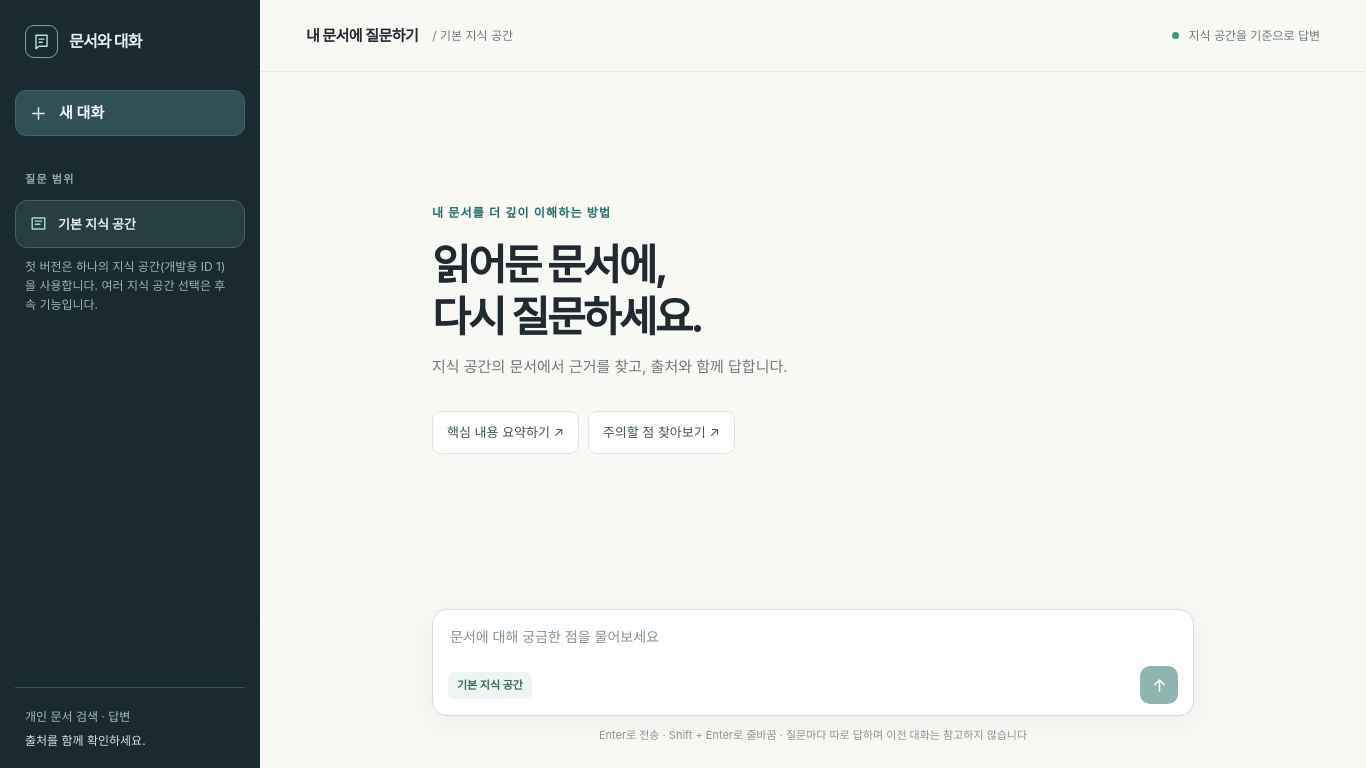
Test case: 빈 sources는 정상 답변으로 보여주고 출처가 없다고 안내한다
The image size is (1366, 768).
(page scrolled)
Type "없는 내용" into the text box named "질문 입력".
click(813, 645); type("없는 내용")  # box [448,624,1178,666]
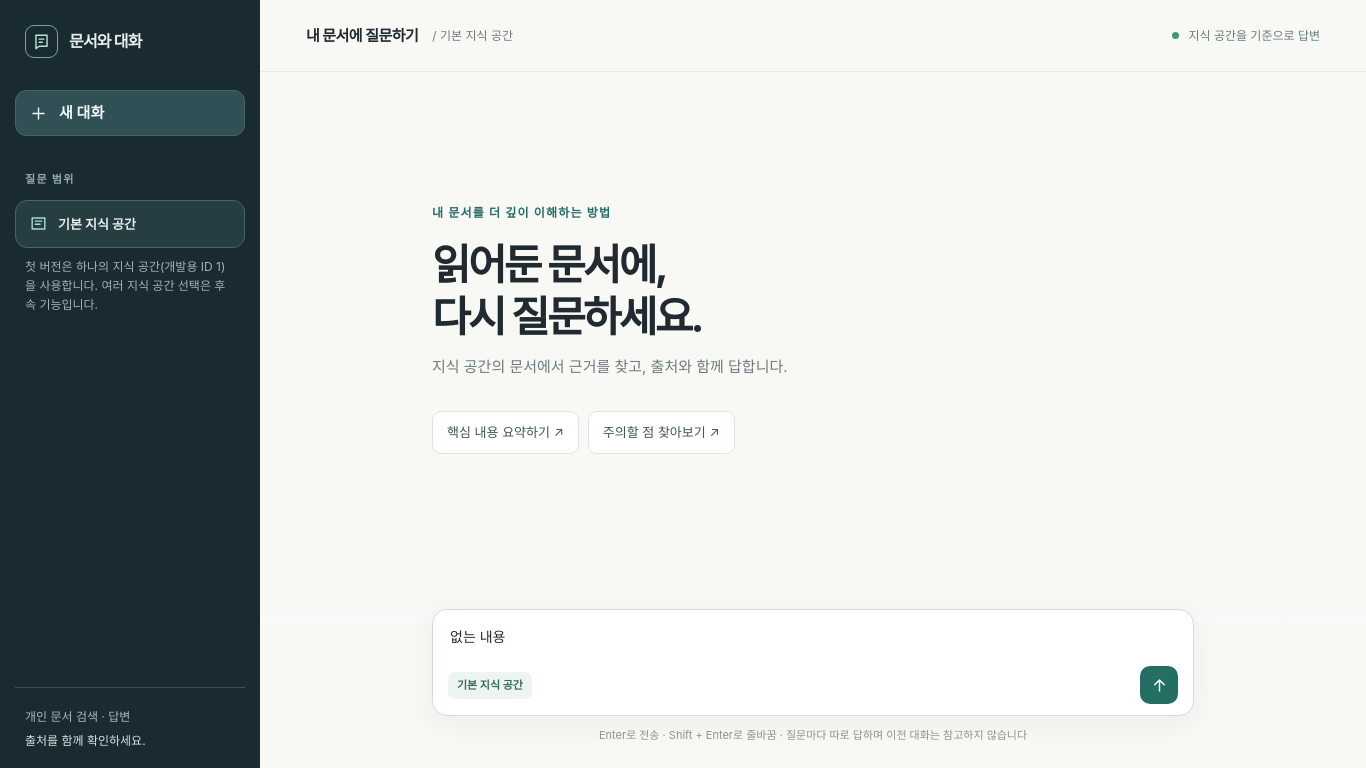
Press Enter in the text box named "질문 입력", box [448,624,1178,666]
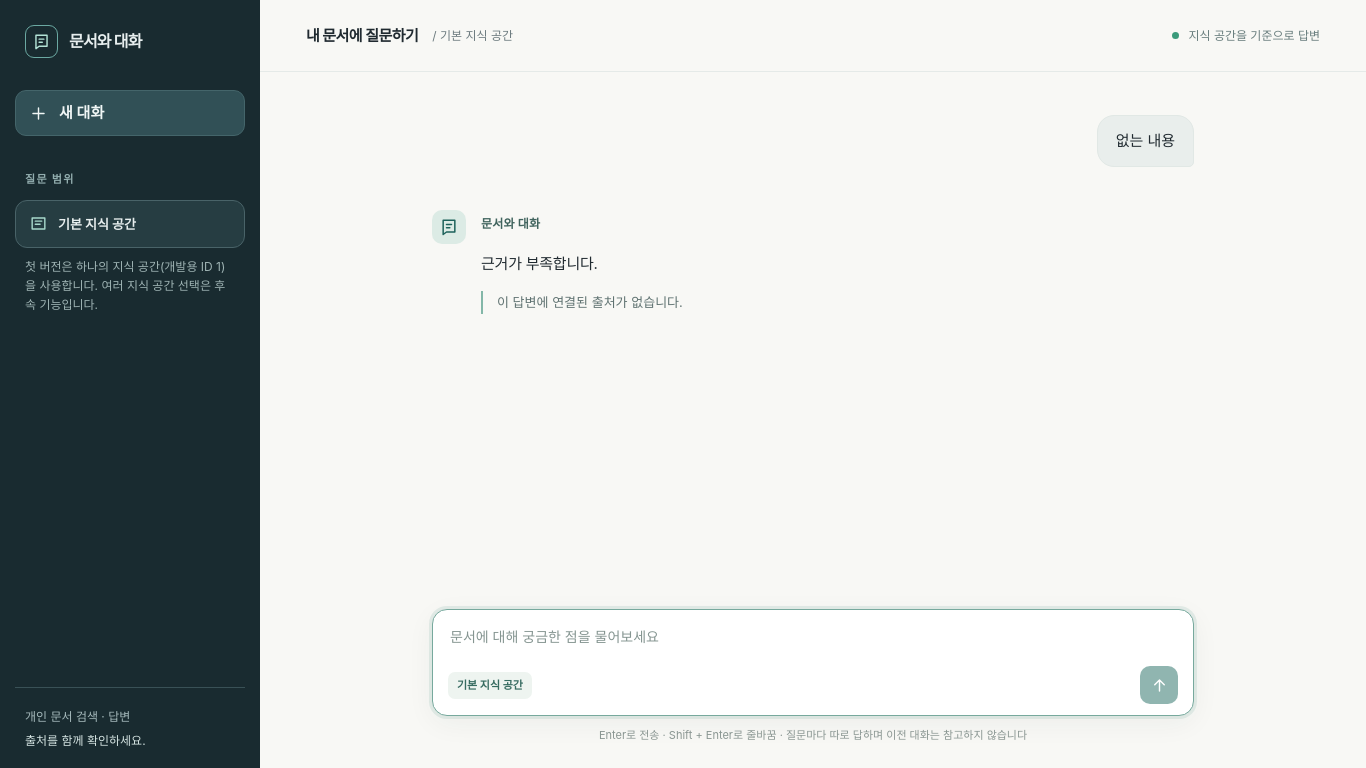
Expected: the text "근거가 부족합니다." is shown, [481,254,598,273]
Expected: the text "이 답변에 연결된 출처가 없습니다." is shown, [481,291,1194,314]
